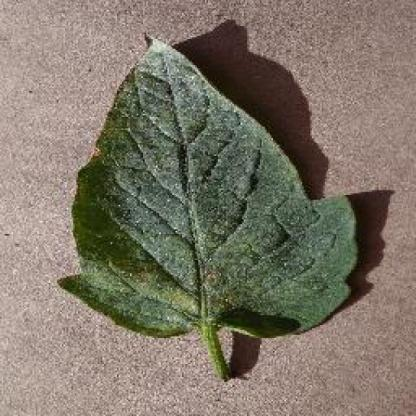Tomato_Spider_Mites: (57, 32, 352, 337)
